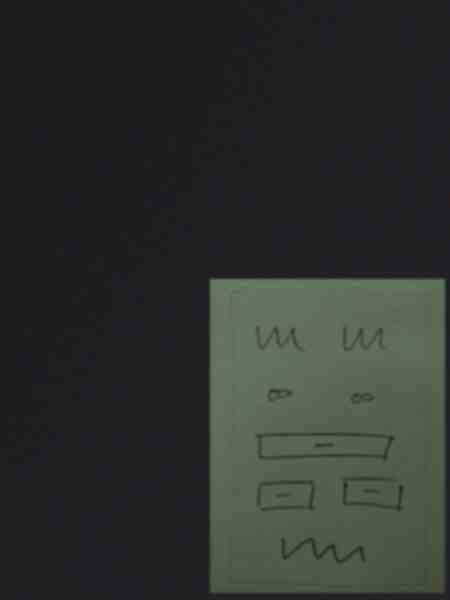button: (250, 429, 397, 468), (338, 473, 406, 516), (254, 477, 321, 515)
switch: (344, 387, 380, 411), (262, 383, 299, 405)
text: (272, 530, 370, 567), (251, 320, 311, 359), (337, 320, 389, 357)
